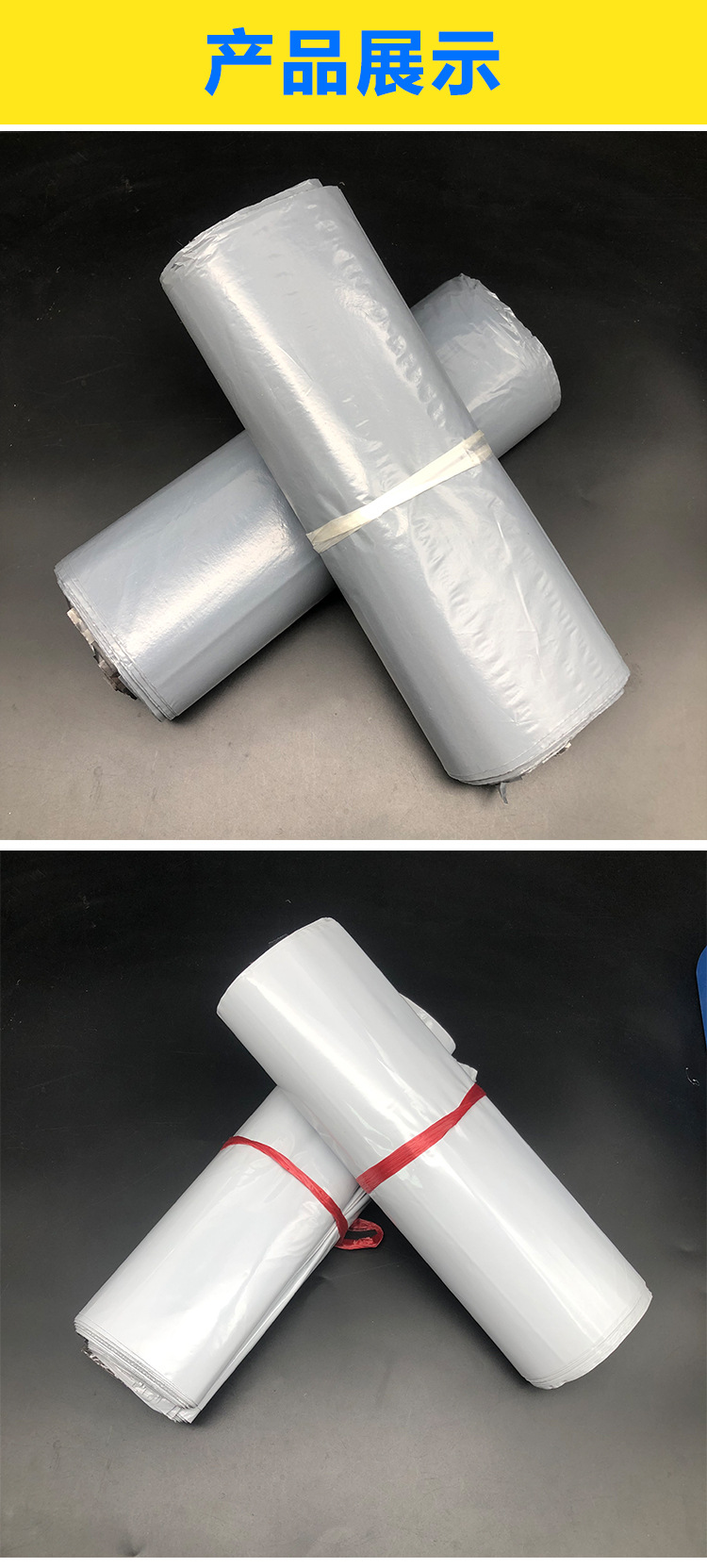Parcel: (32, 139, 707, 865), (0, 896, 673, 1568)
